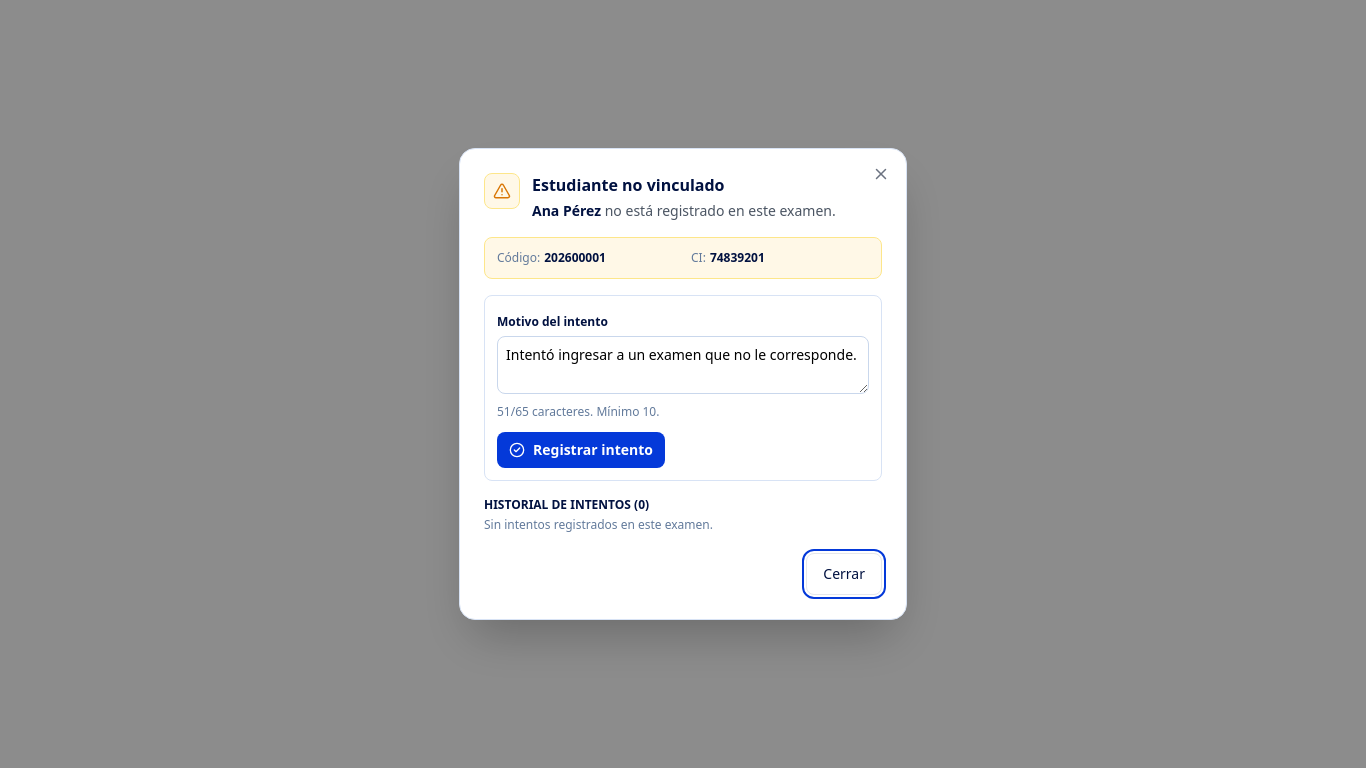
it: EstudianteNoVinculadoModal (ACCS-05) › evita un segundo envío mientras el primer registro sigue en curso
What coordinates should you click on to do the following:
click the button "Registrar intento"
I would click on:
 (581, 450)
Its box is [497, 432, 665, 468].
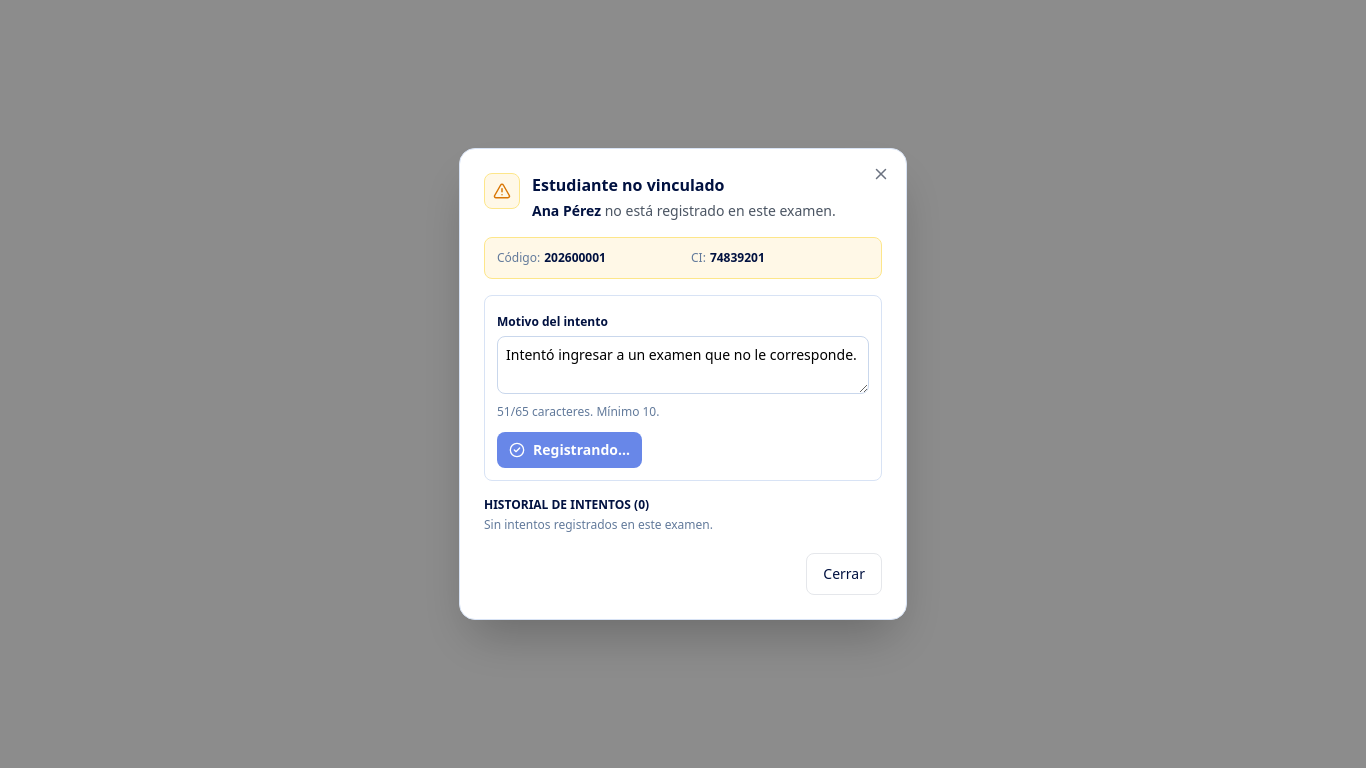
What coordinates should you click on to do the following:
click the button named "registrar intento"
I would click on:
 (569, 450)
Its box is [497, 432, 642, 468].
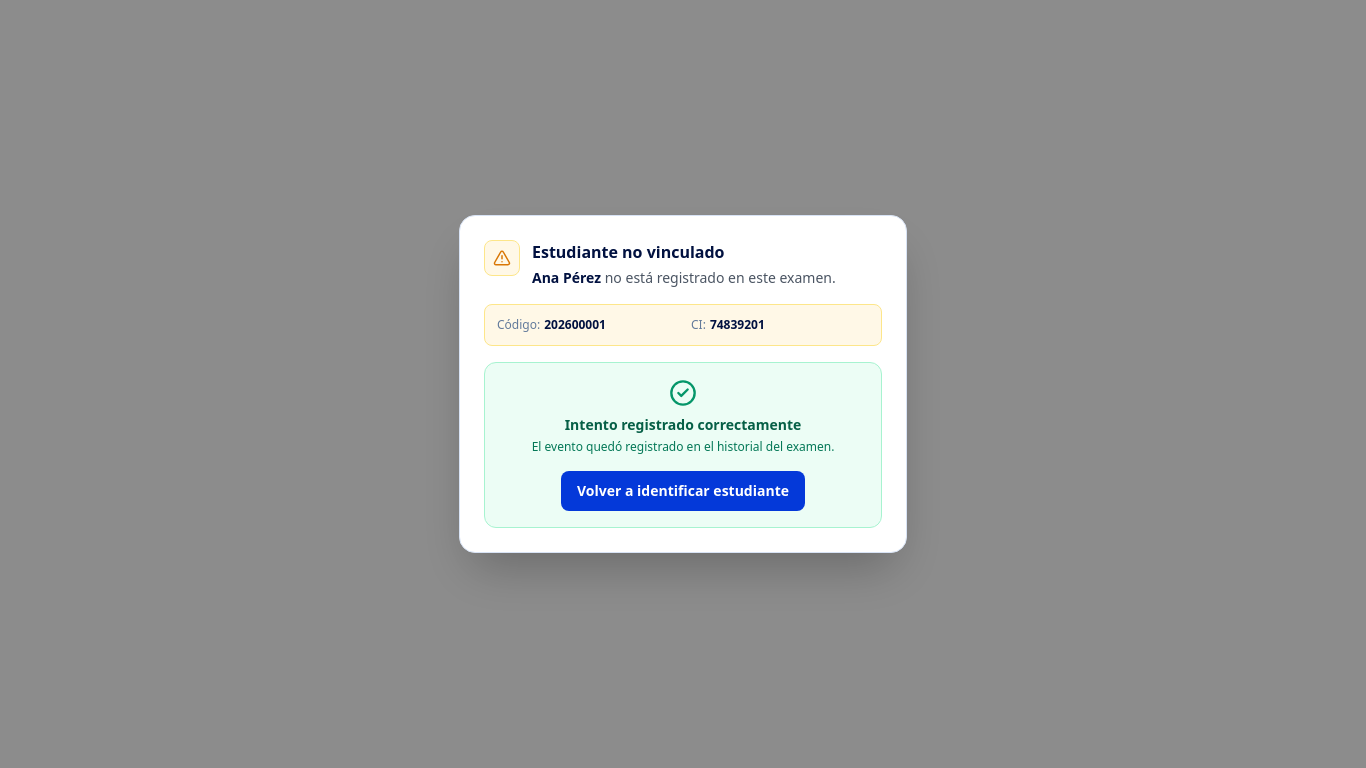
Check: the heading "Intento registrado correctamente" is shown, box [565, 415, 801, 434]
